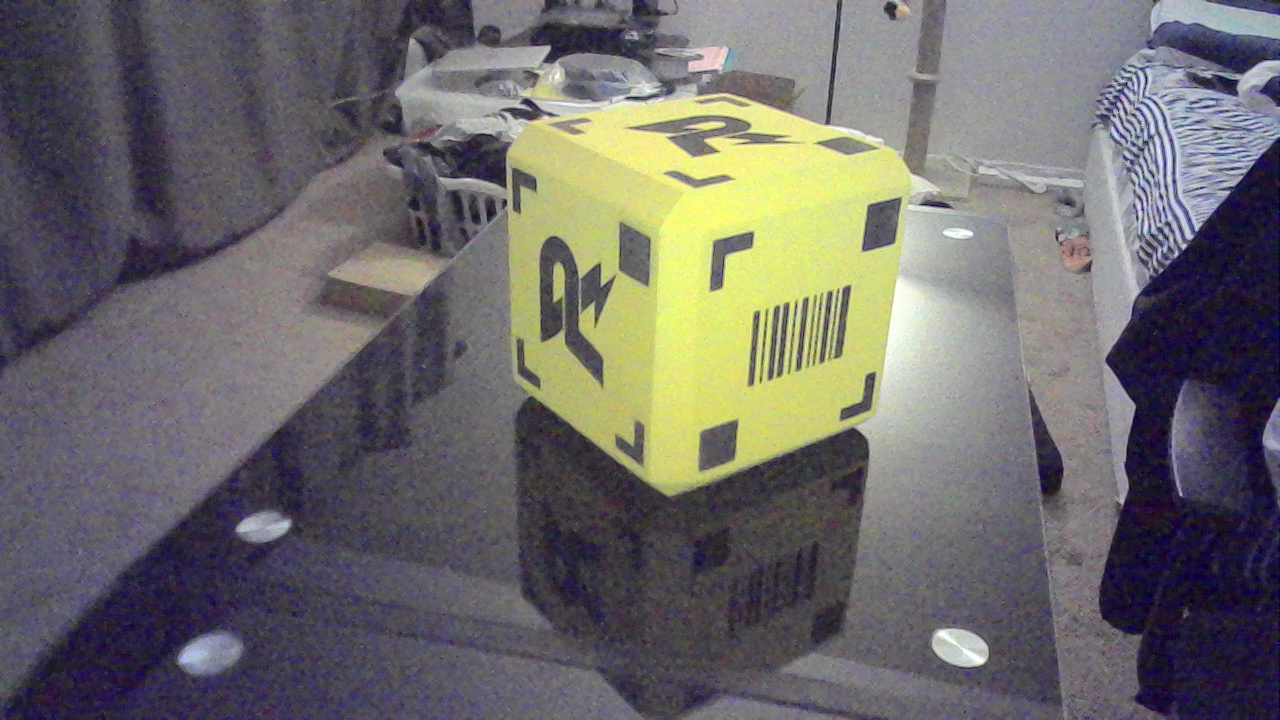Barcode: (738, 292, 874, 382)
R: (539, 225, 618, 380), (648, 117, 811, 163)
